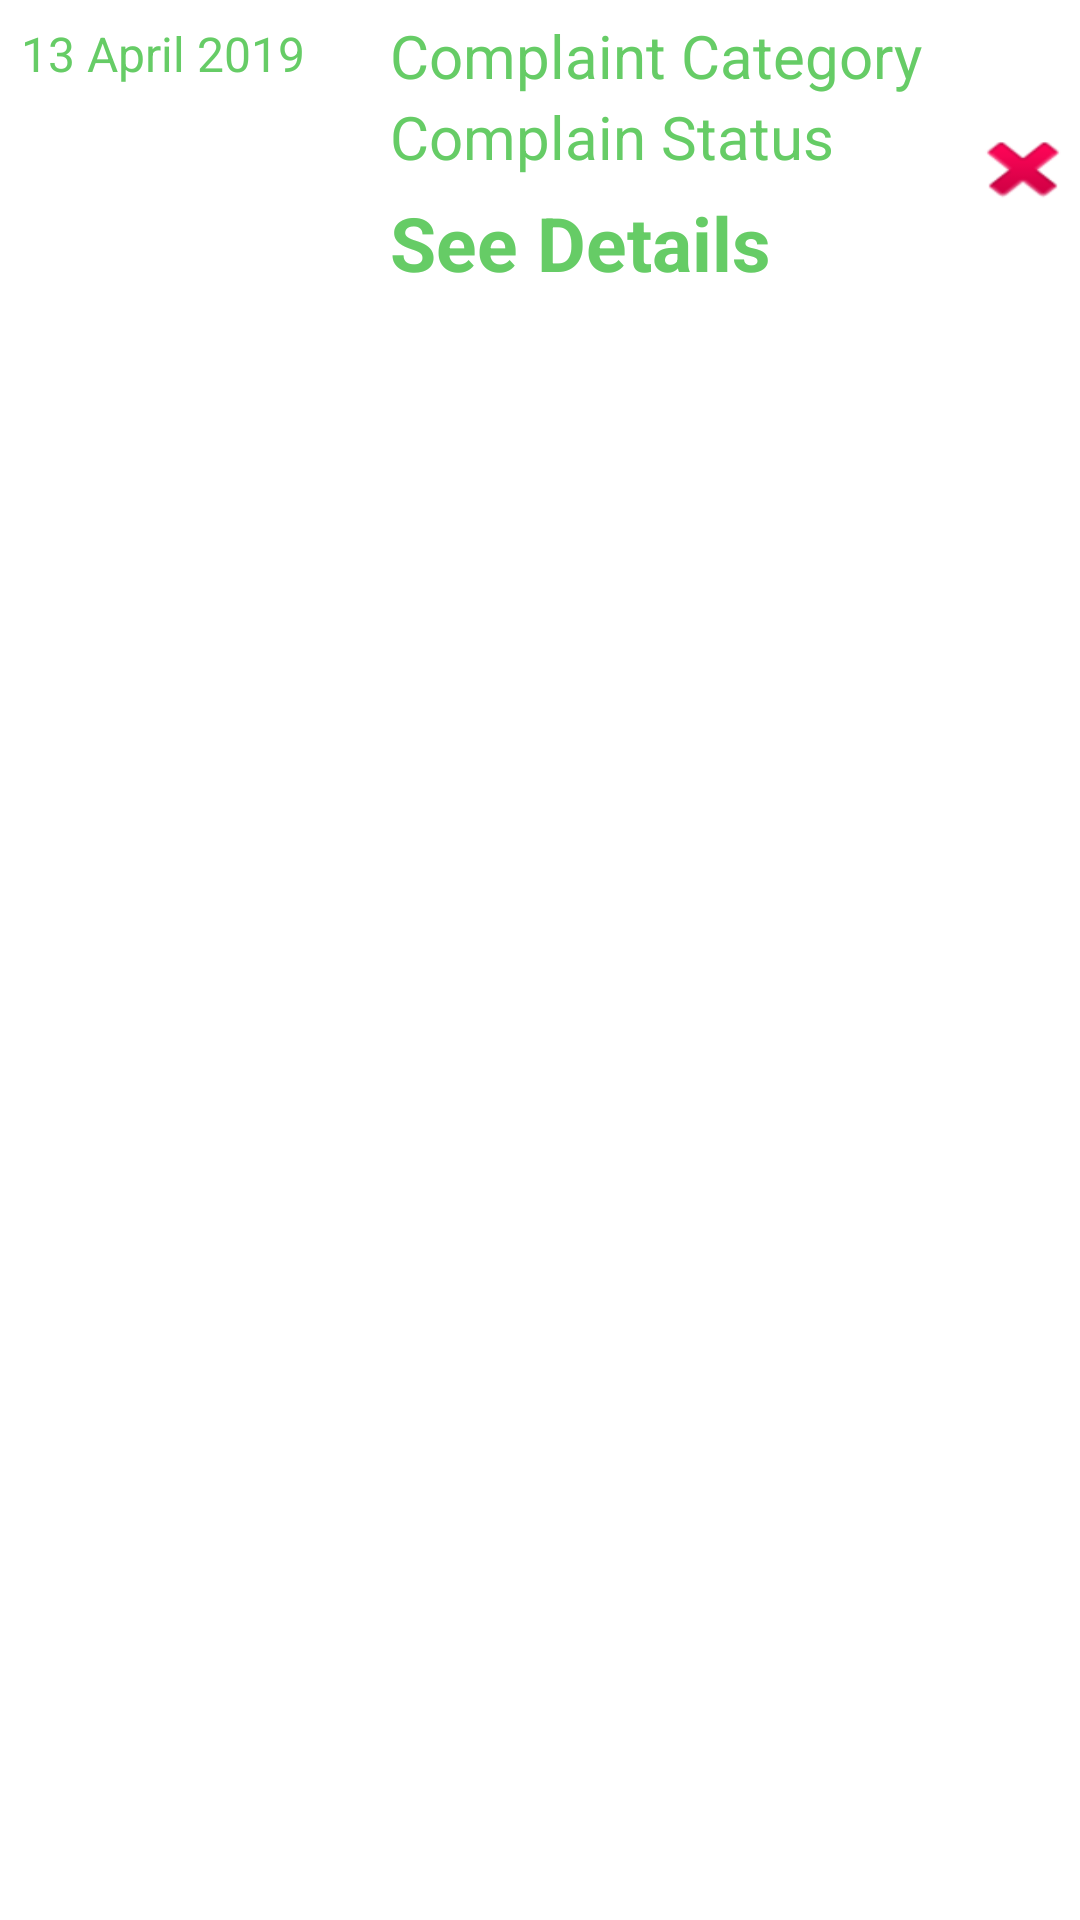

Where icons sit on this 1080w x 1920h app screen, as (x1, y1, x2, y2):
delete: (987, 142, 1059, 197)
